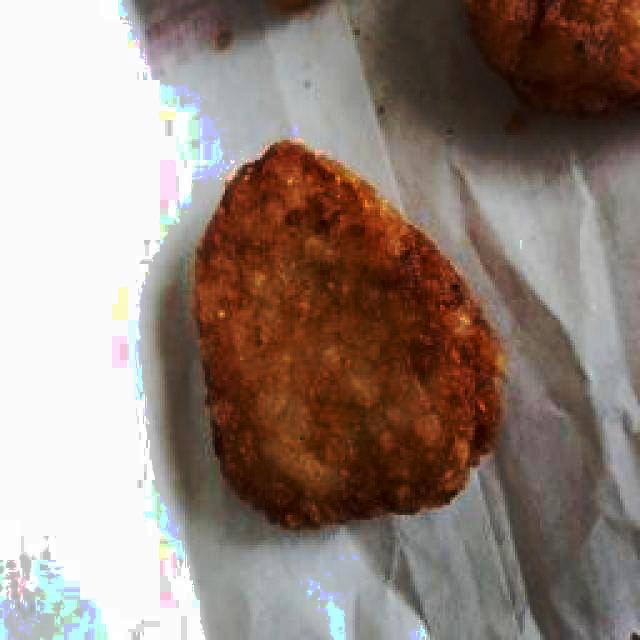Hashbrown: (196, 139, 499, 531)
